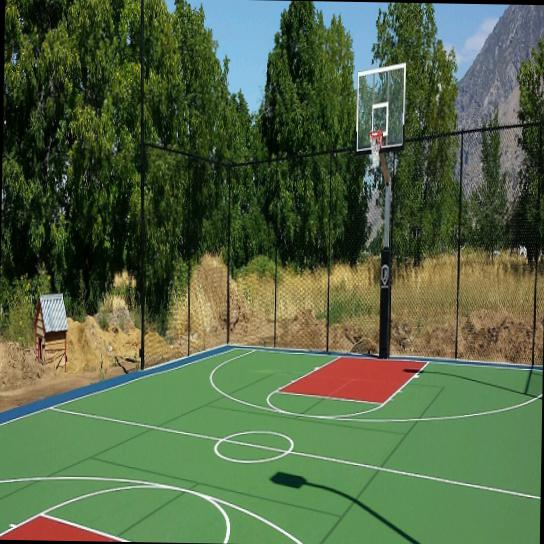basketball-hoop: (366, 128, 383, 171)
